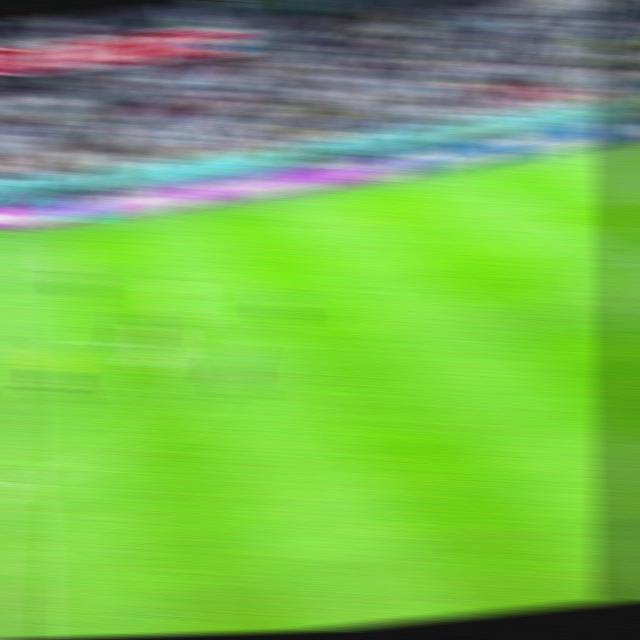bigarea_top_inner: (519, 200, 560, 225)
halfcircle_bottom: (0, 462, 38, 499)
halfcircle_top: (0, 334, 27, 357)
midline_top_intersection: (0, 228, 22, 251)
top_arc_area_intersection: (601, 247, 640, 271)
